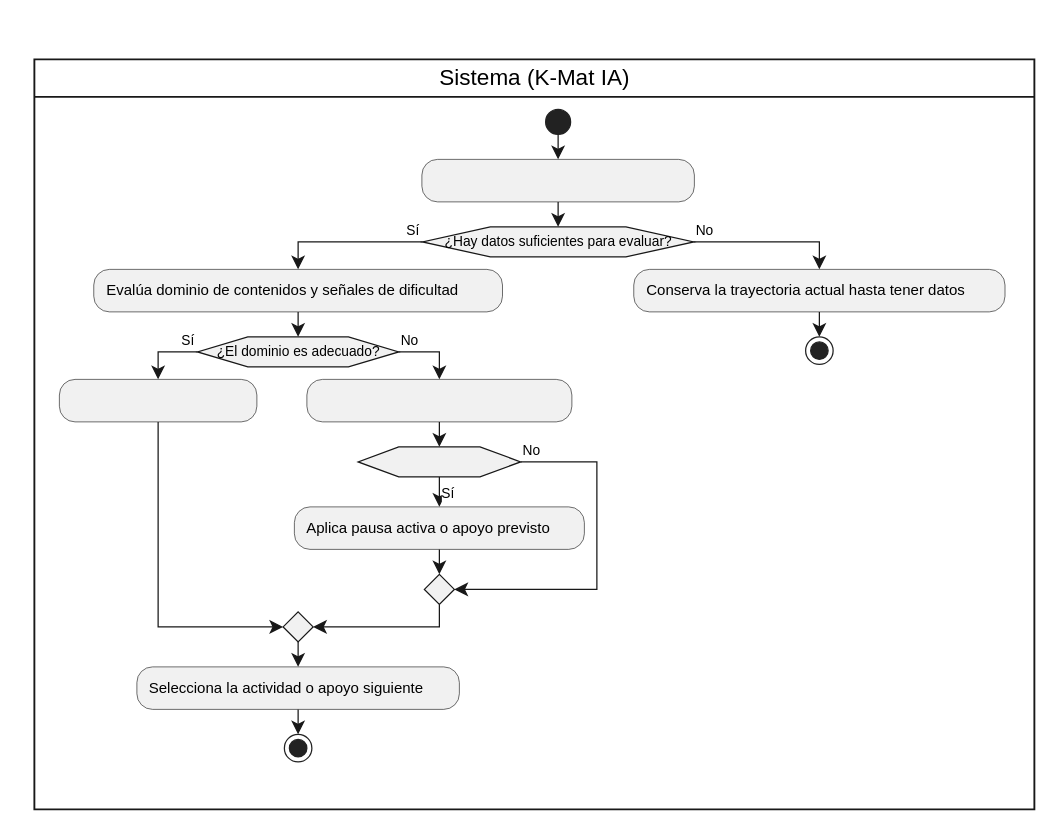
This 1056x831 diagram has some shape labels left out. The centre of each missing label's shape, as x and y in pixels:
Analiza los resultados registrados: pixel 557 180
Decide avanzar de nivel: pixel 157 400
Decide mantener nivel o reforzar: pixel 439 400
¿Persiste dificultad?: pixel 439 461
